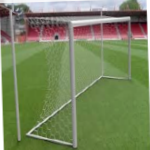goals: (26, 13, 135, 148)
